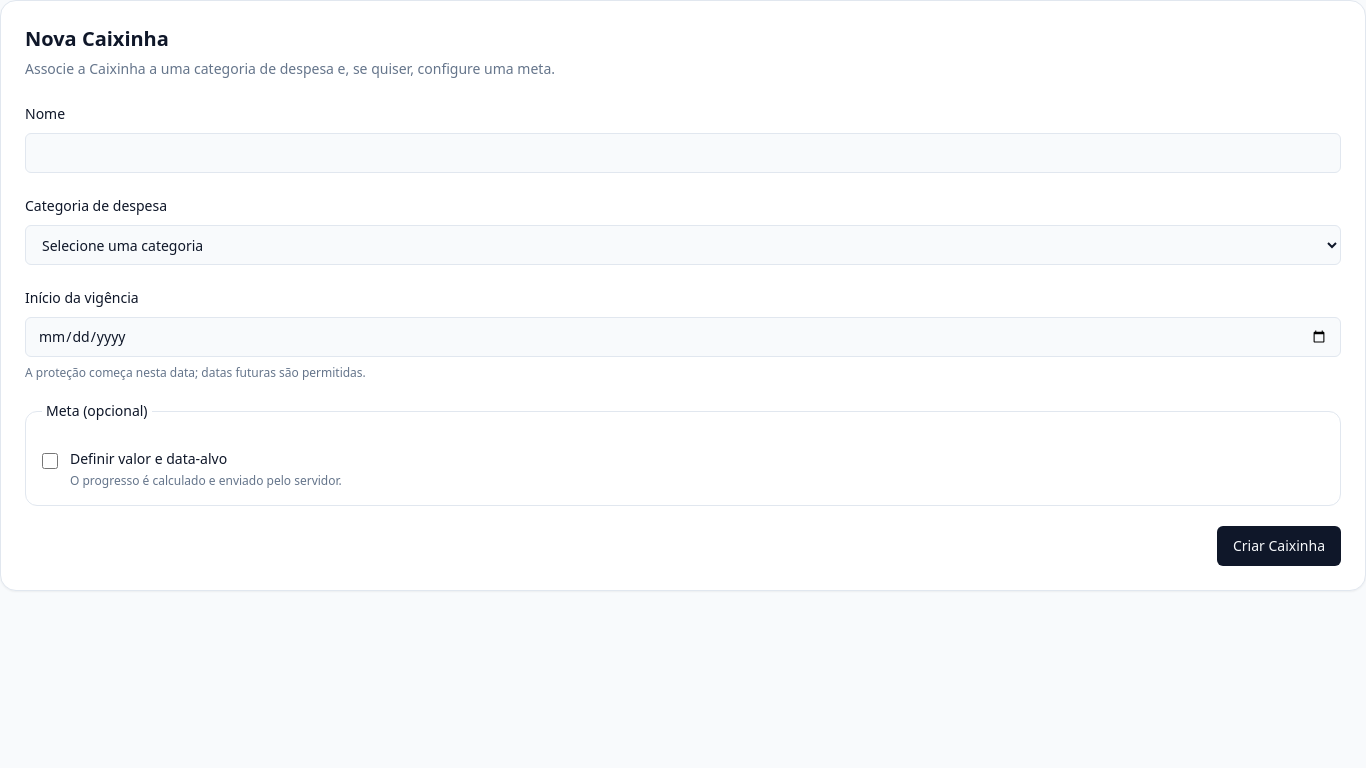
Test: BudgetForm › validates a configured goal before invoking the action
Type "Lazer" into the field labelled "Nome".
click(683, 153); type("Lazer")  # box [25,133,1341,173]
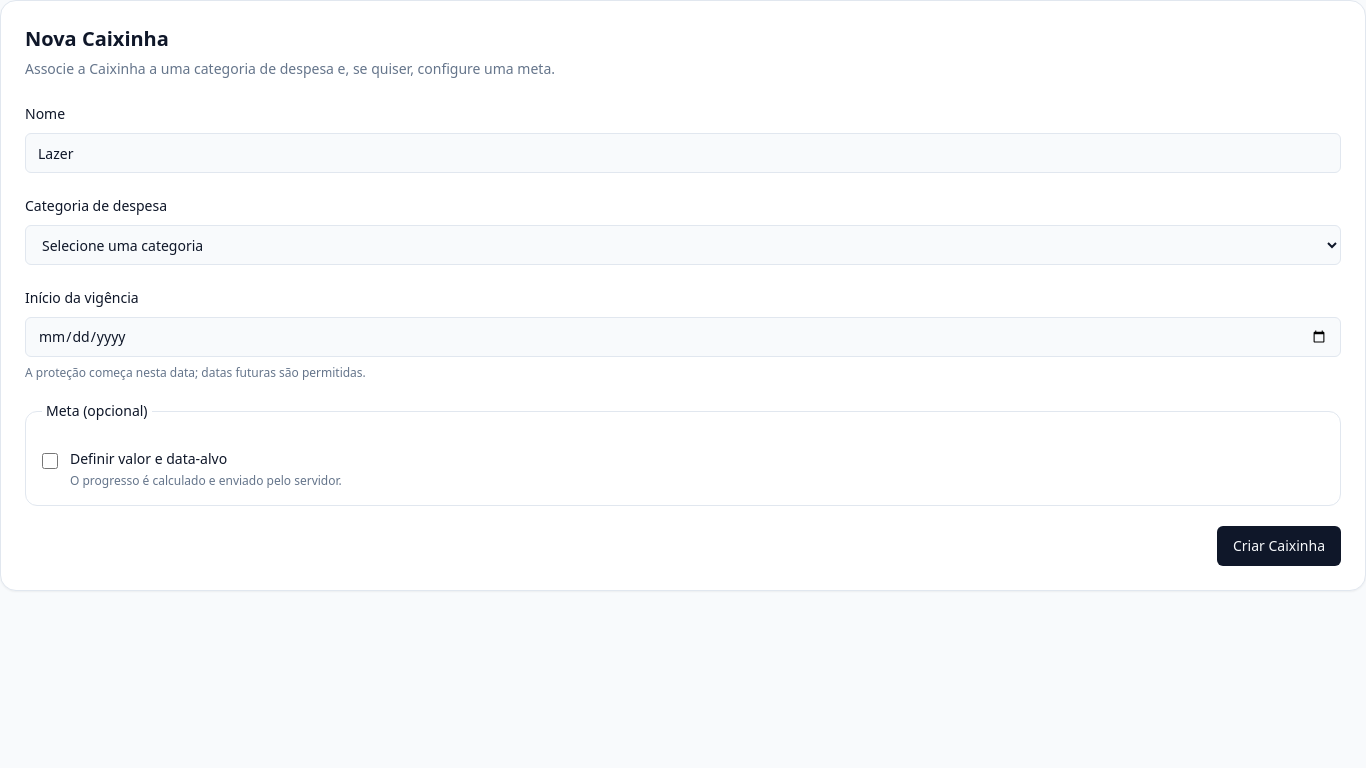
Select "Lazer" in the dropdown labelled "Categoria de despesa" at (683, 245), box [25,225,1341,265]
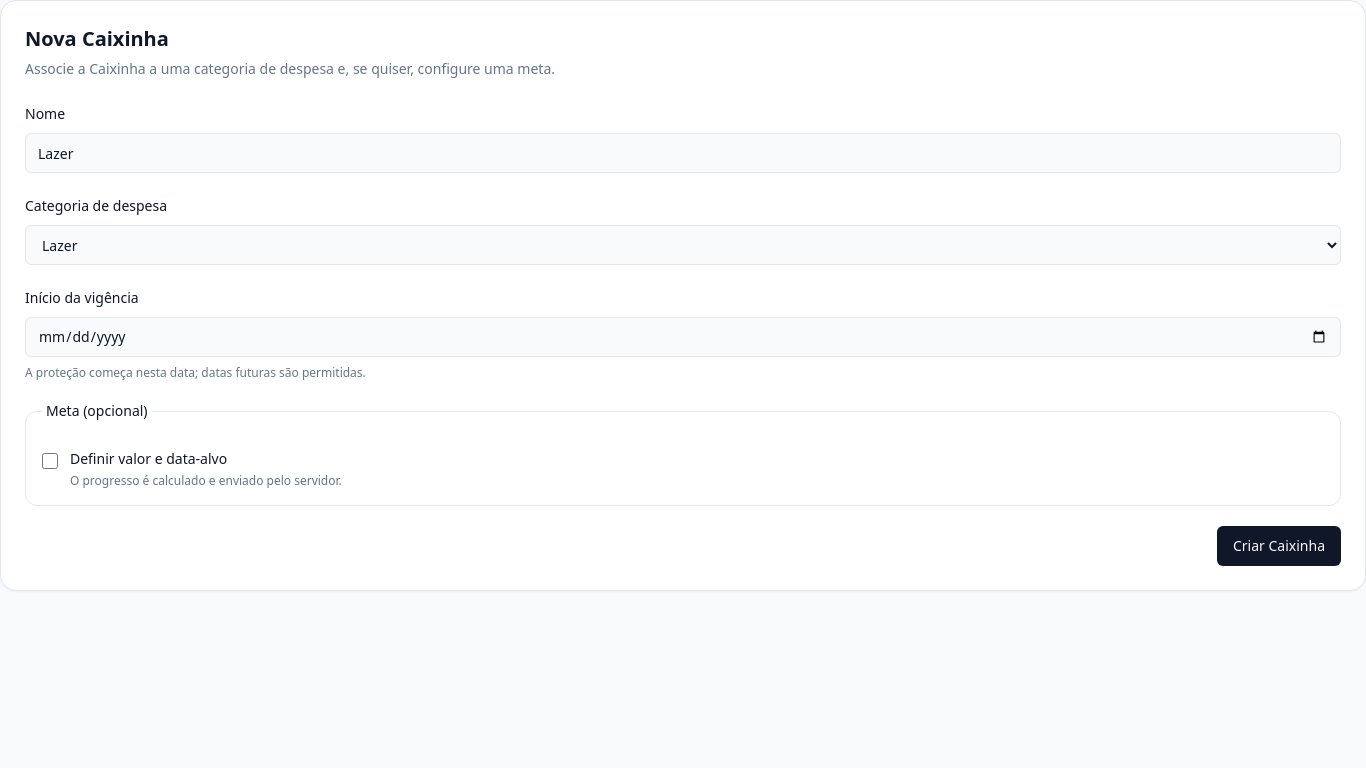
Type "2026-09-02" into the date field labelled "Início da vigência".
click(683, 337); type("2026-09-02")  # box [25,317,1341,357]
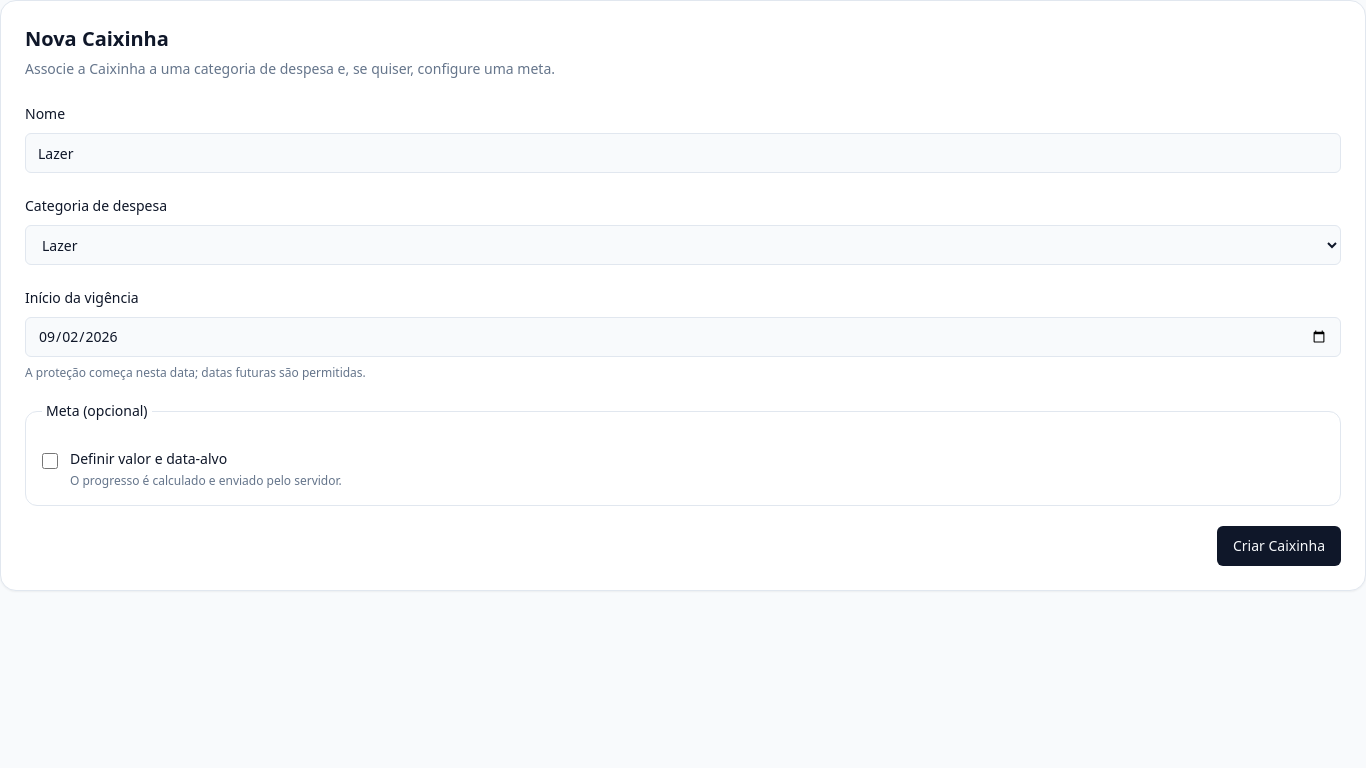
Click the checkbox labelled "Definir valor".
click(50, 461)  # box [42,453,58,469]
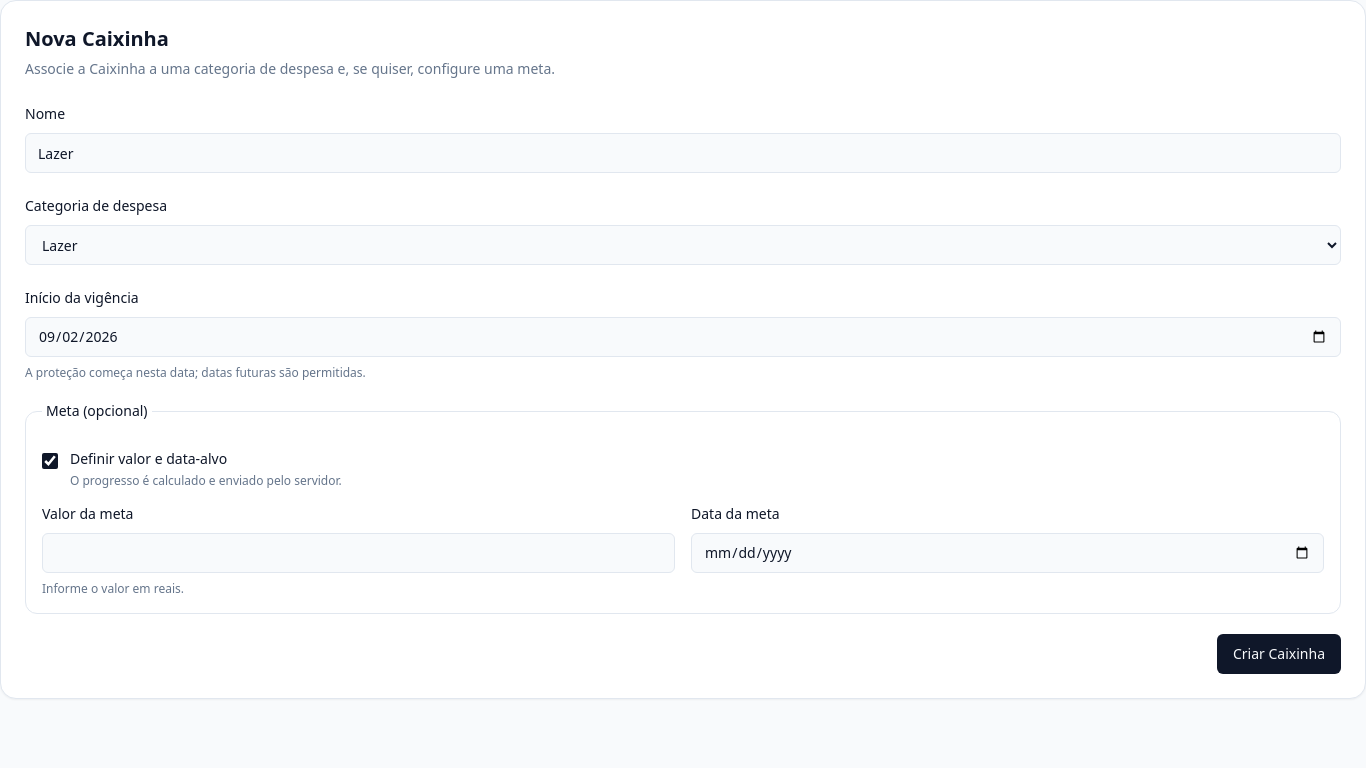
Click the button "Criar Caixinha".
click(1279, 654)  # box [1217,634,1341,674]
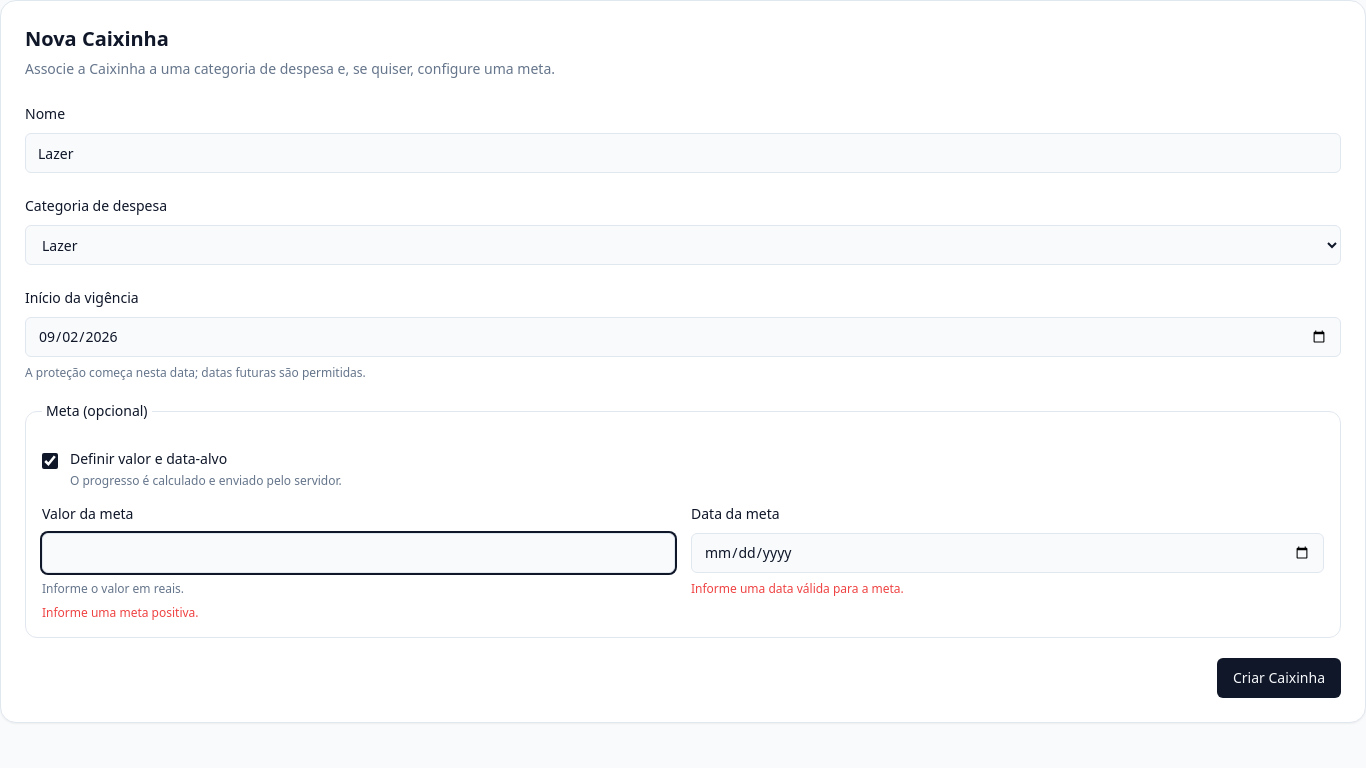
expect the text "Informe uma meta positiva." is shown: met, box [42,604,199,621]
